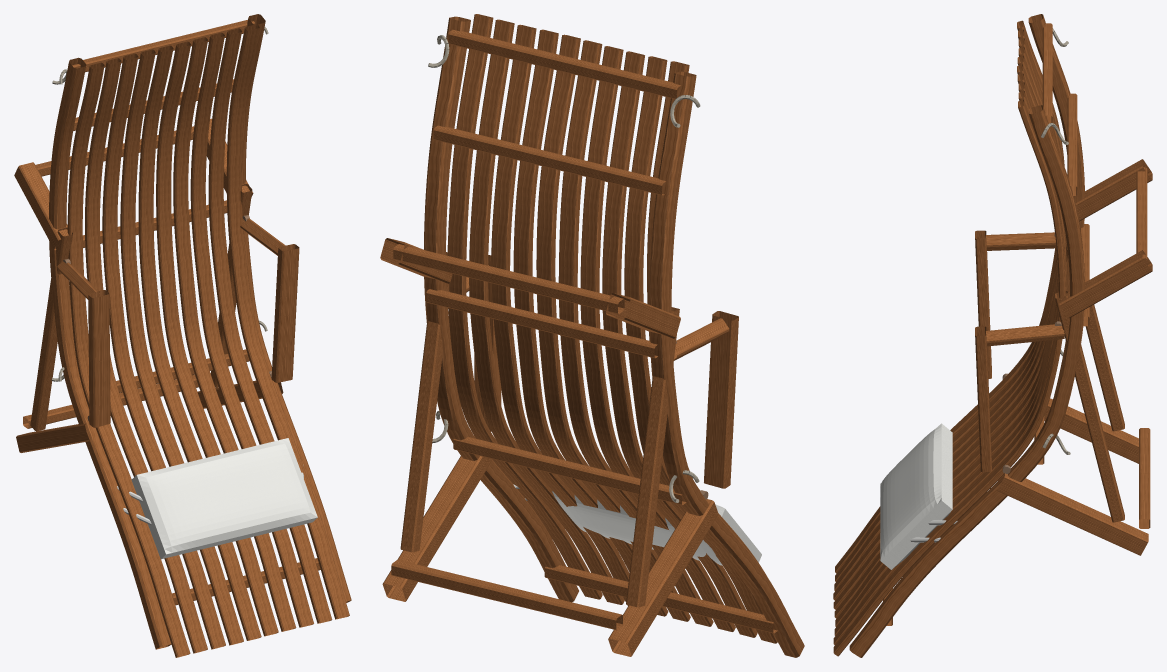
The model's file is wooden_reclining_chair.glb.
3 renders of one model, left to right at view 1: azimuth 30°, elevation 25°; view 2: azimuth 150°, elevation 25°; view 3: azimuth 270°, elevation 25°, orthographic. The views are drawn at different scales.
Visible parts, largest first — view 1: removable_cream_linen_pillow, curved_side_rail_L, full_length_teak_slat_10, full_length_teak_slat_01, full_length_teak_slat_04, full_length_teak_slat_06, full_length_teak_slat_09, full_length_teak_slat_05, full_length_teak_slat_07, full_length_teak_slat_08, full_length_teak_slat_03, full_length_teak_slat_02 (+12 smaller); view 2: curved_side_rail_L, curved_side_rail_R, full_length_teak_slat_09, full_length_teak_slat_10, full_length_teak_slat_08, full_length_teak_slat_03, full_length_teak_slat_04, full_length_teak_slat_05, full_length_teak_slat_07, full_length_teak_slat_06, full_length_teak_slat_02, diagonal_folding_brace_-1 (+17 smaller); view 3: curved_side_rail_R, removable_cream_linen_pillow, full_length_teak_slat_10, rear_support_leg_1, diagonal_folding_brace_1, forward_support_leg_1, curved_side_rail_L, full_length_teak_slat_09, forward_support_leg_-1, armrest_1, full_length_teak_slat_04, diagonal_folding_brace_-1 (+16 smaller).
Boxes of the visible parts, <box> form: removable_cream_linen_pillow: <box>131,438,317,559</box>; curved_side_rail_L: <box>49,57,171,649</box>; full_length_teak_slat_10: <box>226,24,349,619</box>; full_length_teak_slat_01: <box>67,62,190,657</box>; full_length_teak_slat_04: <box>120,49,243,645</box>; full_length_teak_slat_06: <box>156,41,278,636</box>; full_length_teak_slat_09: <box>208,28,332,623</box>; full_length_teak_slat_05: <box>138,45,261,640</box>; full_length_teak_slat_07: <box>173,37,296,631</box>; full_length_teak_slat_08: <box>190,32,313,627</box>; full_length_teak_slat_03: <box>102,53,225,649</box>; full_length_teak_slat_02: <box>85,58,207,653</box>; curved_side_rail_L: <box>649,71,804,657</box>; curved_side_rail_R: <box>424,16,578,602</box>; full_length_teak_slat_09: <box>469,19,624,604</box>; full_length_teak_slat_10: <box>447,14,602,599</box>; full_length_teak_slat_08: <box>491,24,629,605</box>; full_length_teak_slat_03: <box>602,51,757,637</box>; full_length_teak_slat_04: <box>580,46,735,631</box>; full_length_teak_slat_05: <box>558,40,713,626</box>; full_length_teak_slat_07: <box>513,29,668,616</box>; full_length_teak_slat_06: <box>536,34,690,621</box>; full_length_teak_slat_02: <box>624,56,777,643</box>; diagonal_folding_brace_-1: <box>626,307,679,607</box>; curved_side_rail_R: <box>849,105,1084,657</box>; removable_cream_linen_pillow: <box>880,423,952,569</box>; full_length_teak_slat_10: <box>833,100,1065,656</box>; rear_support_leg_1: <box>997,473,1148,555</box>; diagonal_folding_brace_1: <box>1055,291,1124,522</box>; forward_support_leg_1: <box>1059,250,1152,318</box>; curved_side_rail_L: <box>1028,14,1084,291</box>; full_length_teak_slat_09: <box>833,91,1066,645</box>; forward_support_leg_-1: <box>1075,159,1152,221</box>; armrest_1: <box>975,326,991,472</box>; full_length_teak_slat_04: <box>833,47,1057,600</box>; diagonal_folding_brace_-1: <box>1066,241,1124,431</box>.
Size of the model in its own units: 0.8739 by 2.11 by 1.11.
2 materials, 2 textured.
